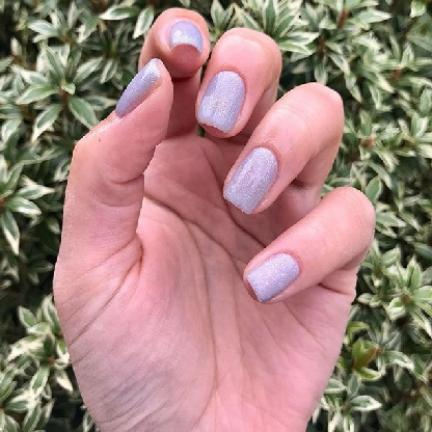Nail: (222, 146, 280, 214), (195, 70, 246, 133), (115, 58, 164, 118), (245, 253, 300, 302), (170, 21, 203, 54)
